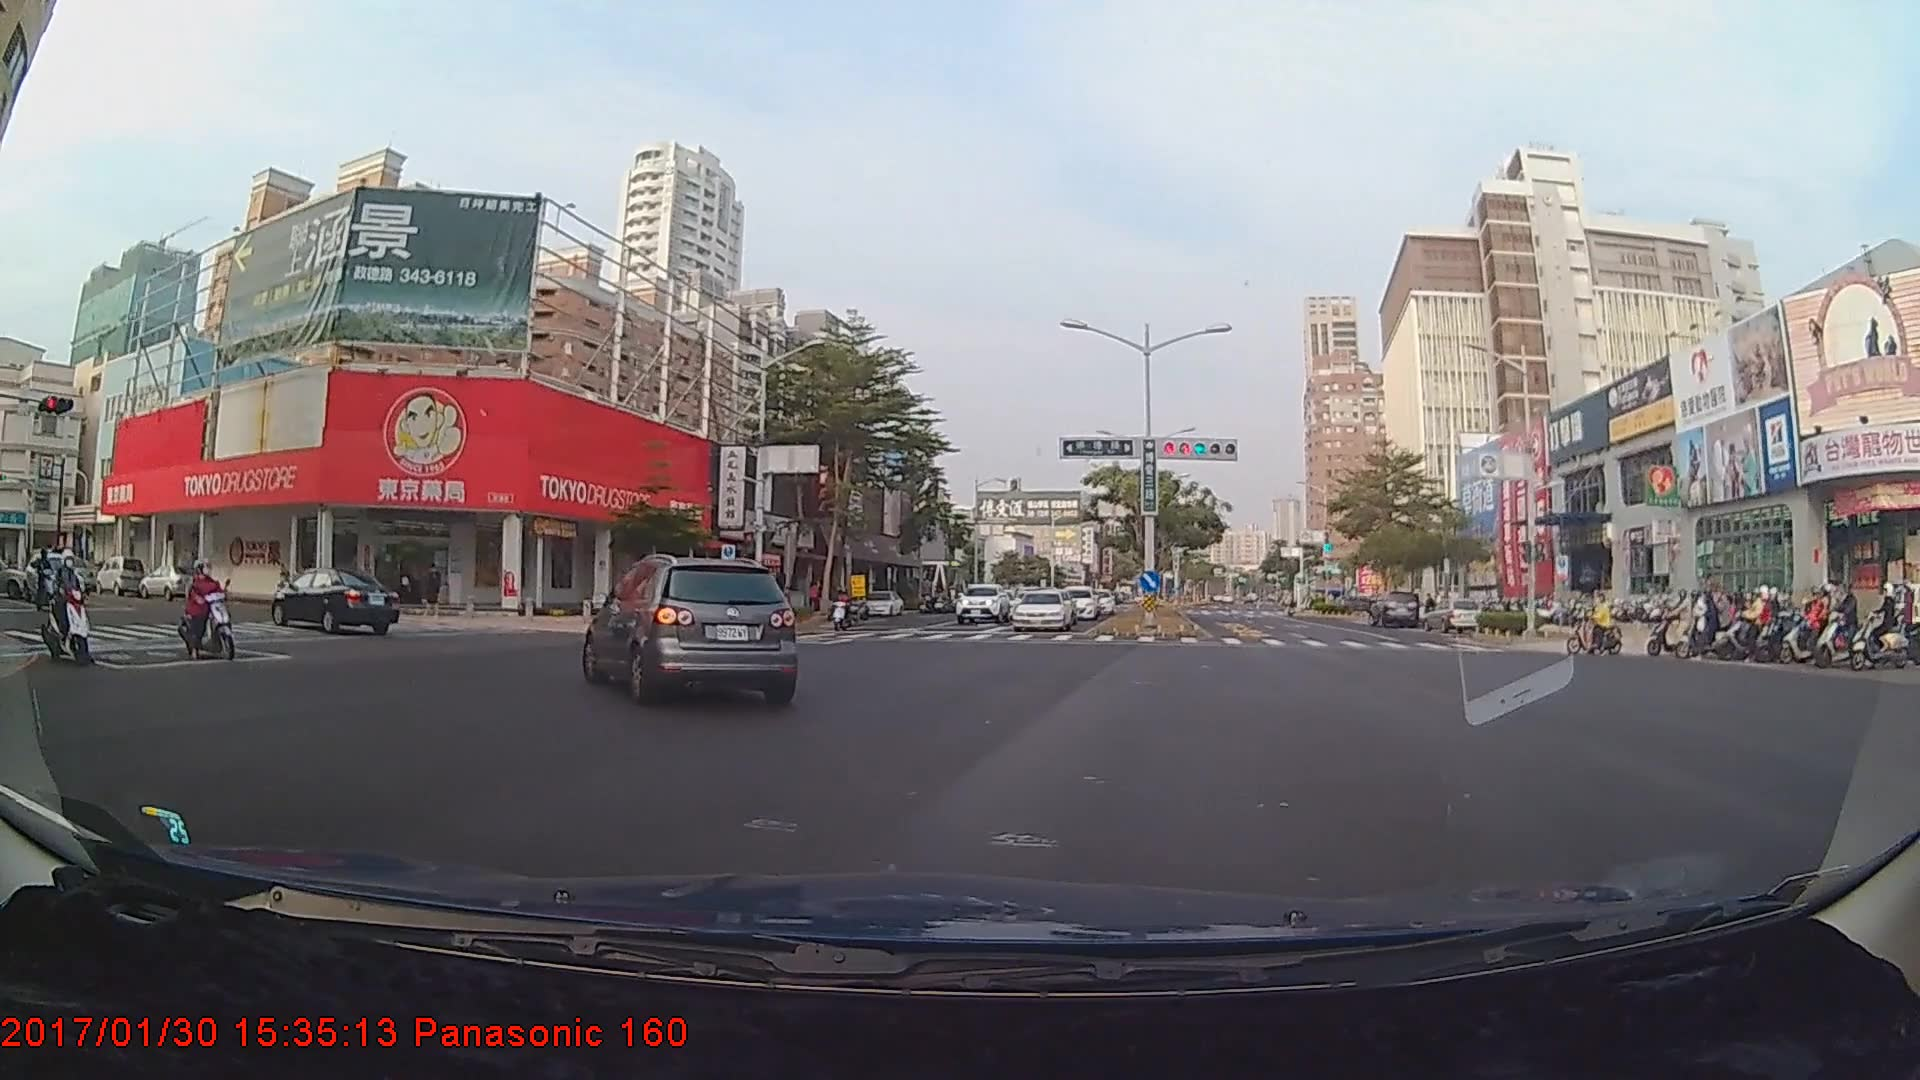rider: (36, 555, 96, 668), (172, 560, 236, 665), (1713, 586, 1776, 661), (1655, 597, 1730, 659), (1806, 584, 1863, 662), (1563, 585, 1624, 656), (1805, 584, 1856, 659), (1781, 588, 1830, 664), (830, 584, 851, 635)
vehicle: (584, 553, 797, 705), (271, 566, 398, 636), (25, 554, 86, 606), (1010, 587, 1074, 630), (954, 581, 1011, 624), (39, 556, 94, 593), (1366, 588, 1418, 626), (1053, 583, 1100, 621), (861, 589, 902, 616)
